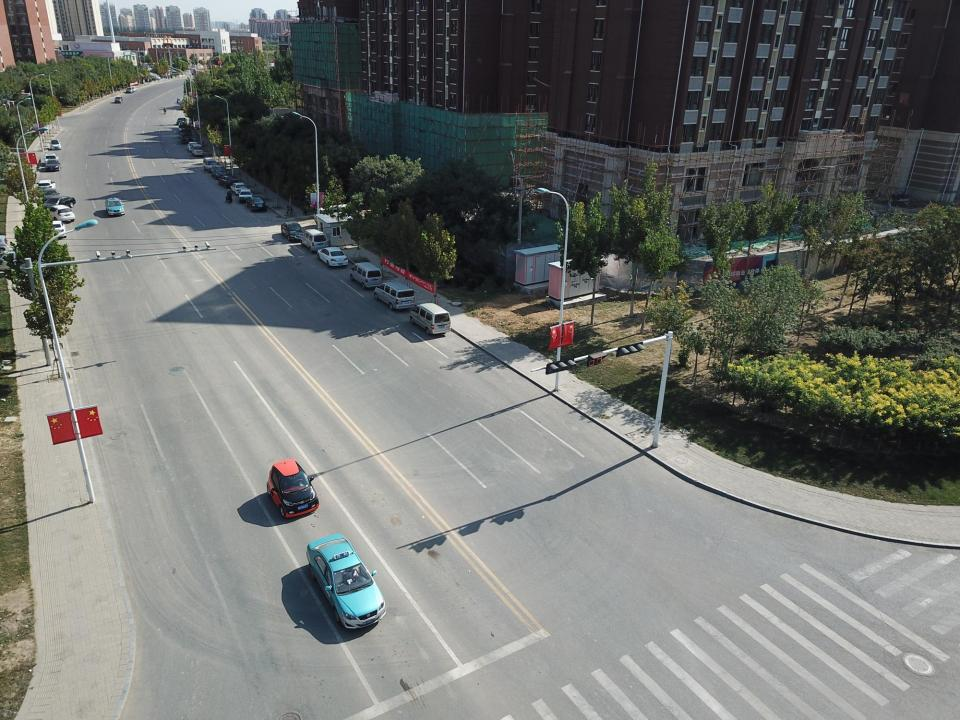car: (306, 532, 386, 631), (265, 461, 320, 518), (408, 302, 452, 336), (318, 244, 348, 268), (281, 219, 305, 240), (45, 206, 75, 222), (0, 250, 24, 270), (42, 195, 76, 208), (244, 196, 267, 212), (105, 198, 124, 216), (47, 219, 65, 238), (44, 158, 63, 172), (33, 188, 58, 198), (201, 157, 218, 170), (36, 179, 56, 190), (218, 174, 236, 186), (237, 189, 252, 203), (211, 164, 226, 178), (230, 183, 248, 193), (49, 138, 62, 150), (0, 232, 9, 249), (191, 144, 202, 156), (180, 132, 193, 142), (187, 141, 198, 152), (178, 122, 190, 131), (44, 154, 60, 160), (176, 117, 187, 125), (125, 86, 134, 93), (114, 96, 124, 102), (132, 86, 137, 91), (205, 68, 210, 73)
van: (373, 280, 415, 310), (348, 262, 382, 287), (300, 227, 326, 249)
